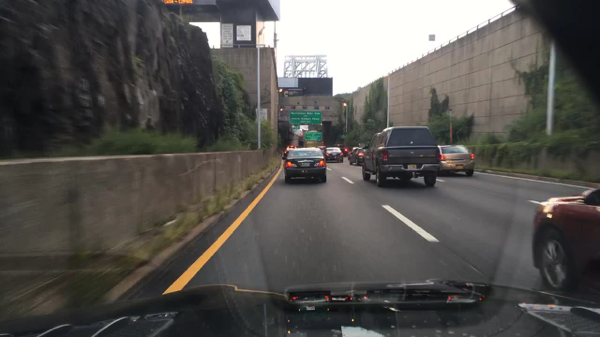car: (530, 187, 599, 298), (360, 124, 442, 188), (283, 147, 327, 184), (437, 143, 476, 177), (322, 147, 344, 162), (281, 144, 299, 161), (348, 149, 365, 165), (346, 147, 365, 159), (316, 146, 328, 156), (338, 146, 348, 156)
traffic sign: (289, 111, 323, 125), (304, 132, 324, 141), (291, 125, 301, 130), (339, 133, 347, 139)
